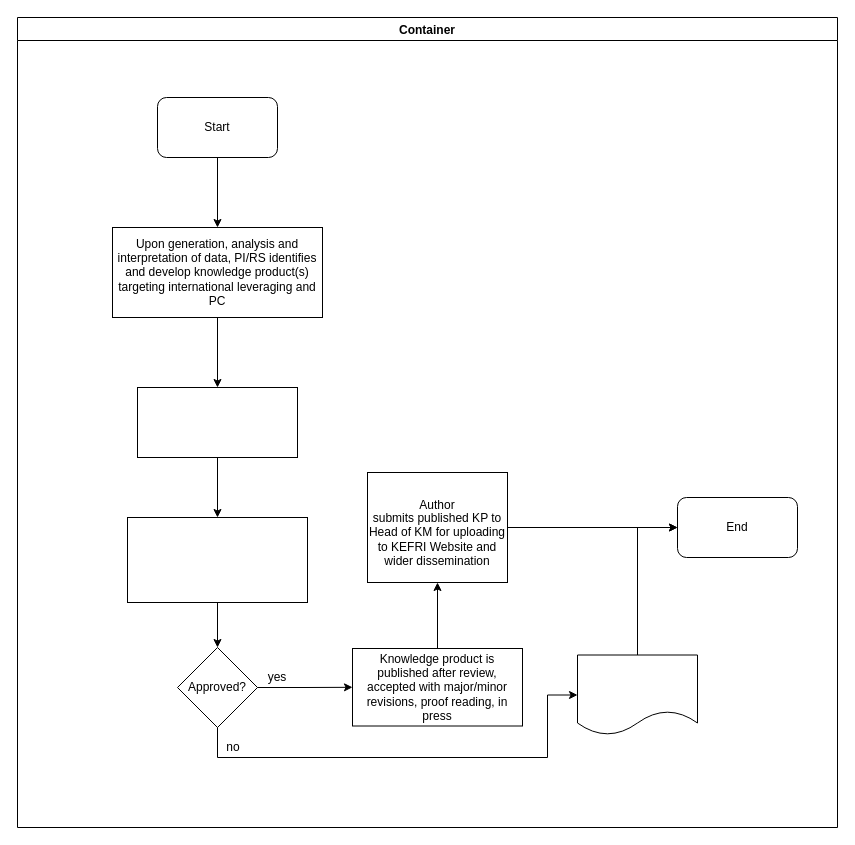
The diagram is 855 pixels wide and 845 high, and some of its shapes have lost their labels. The shapes that lost their labels are listed below. From the top down, each one's centre as x and y in pixels, then its label:
At point (217, 422): "Authors submit KP to the journal/publisher of choice as per KEFRI database".
At point (217, 559): "Updates on the status".
At point (637, 694): "Notify Author".
